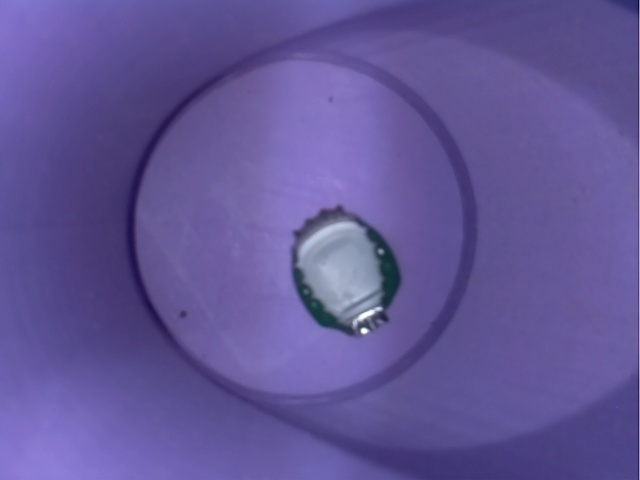capsule: (273, 194, 419, 342)
